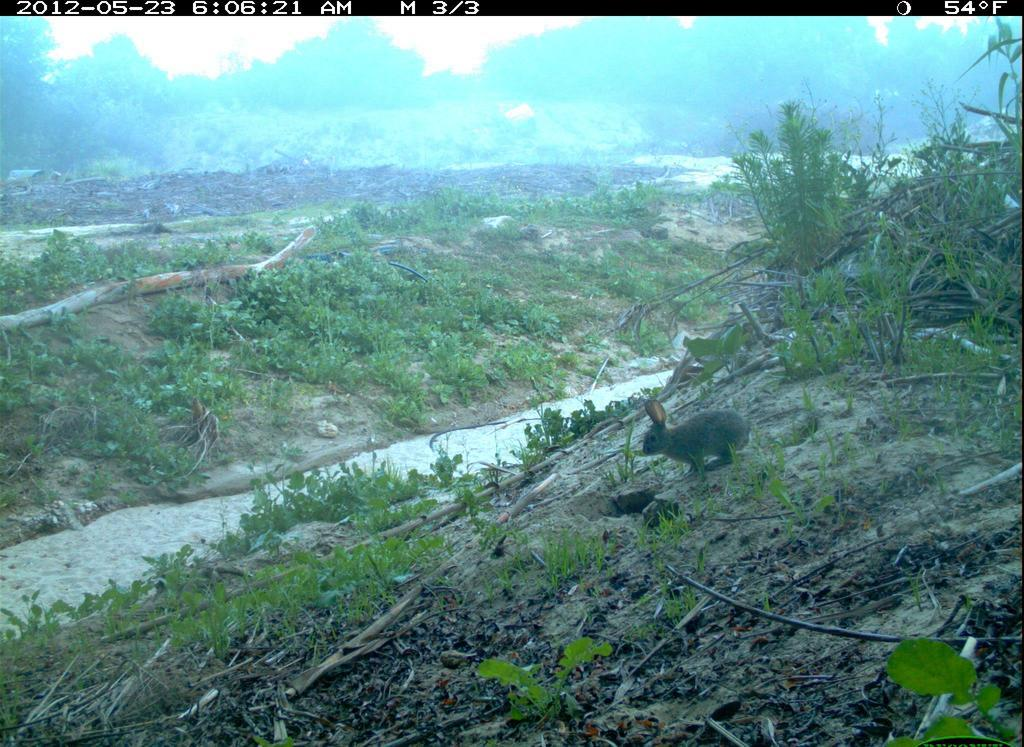rabbit: (637, 391, 757, 484)
